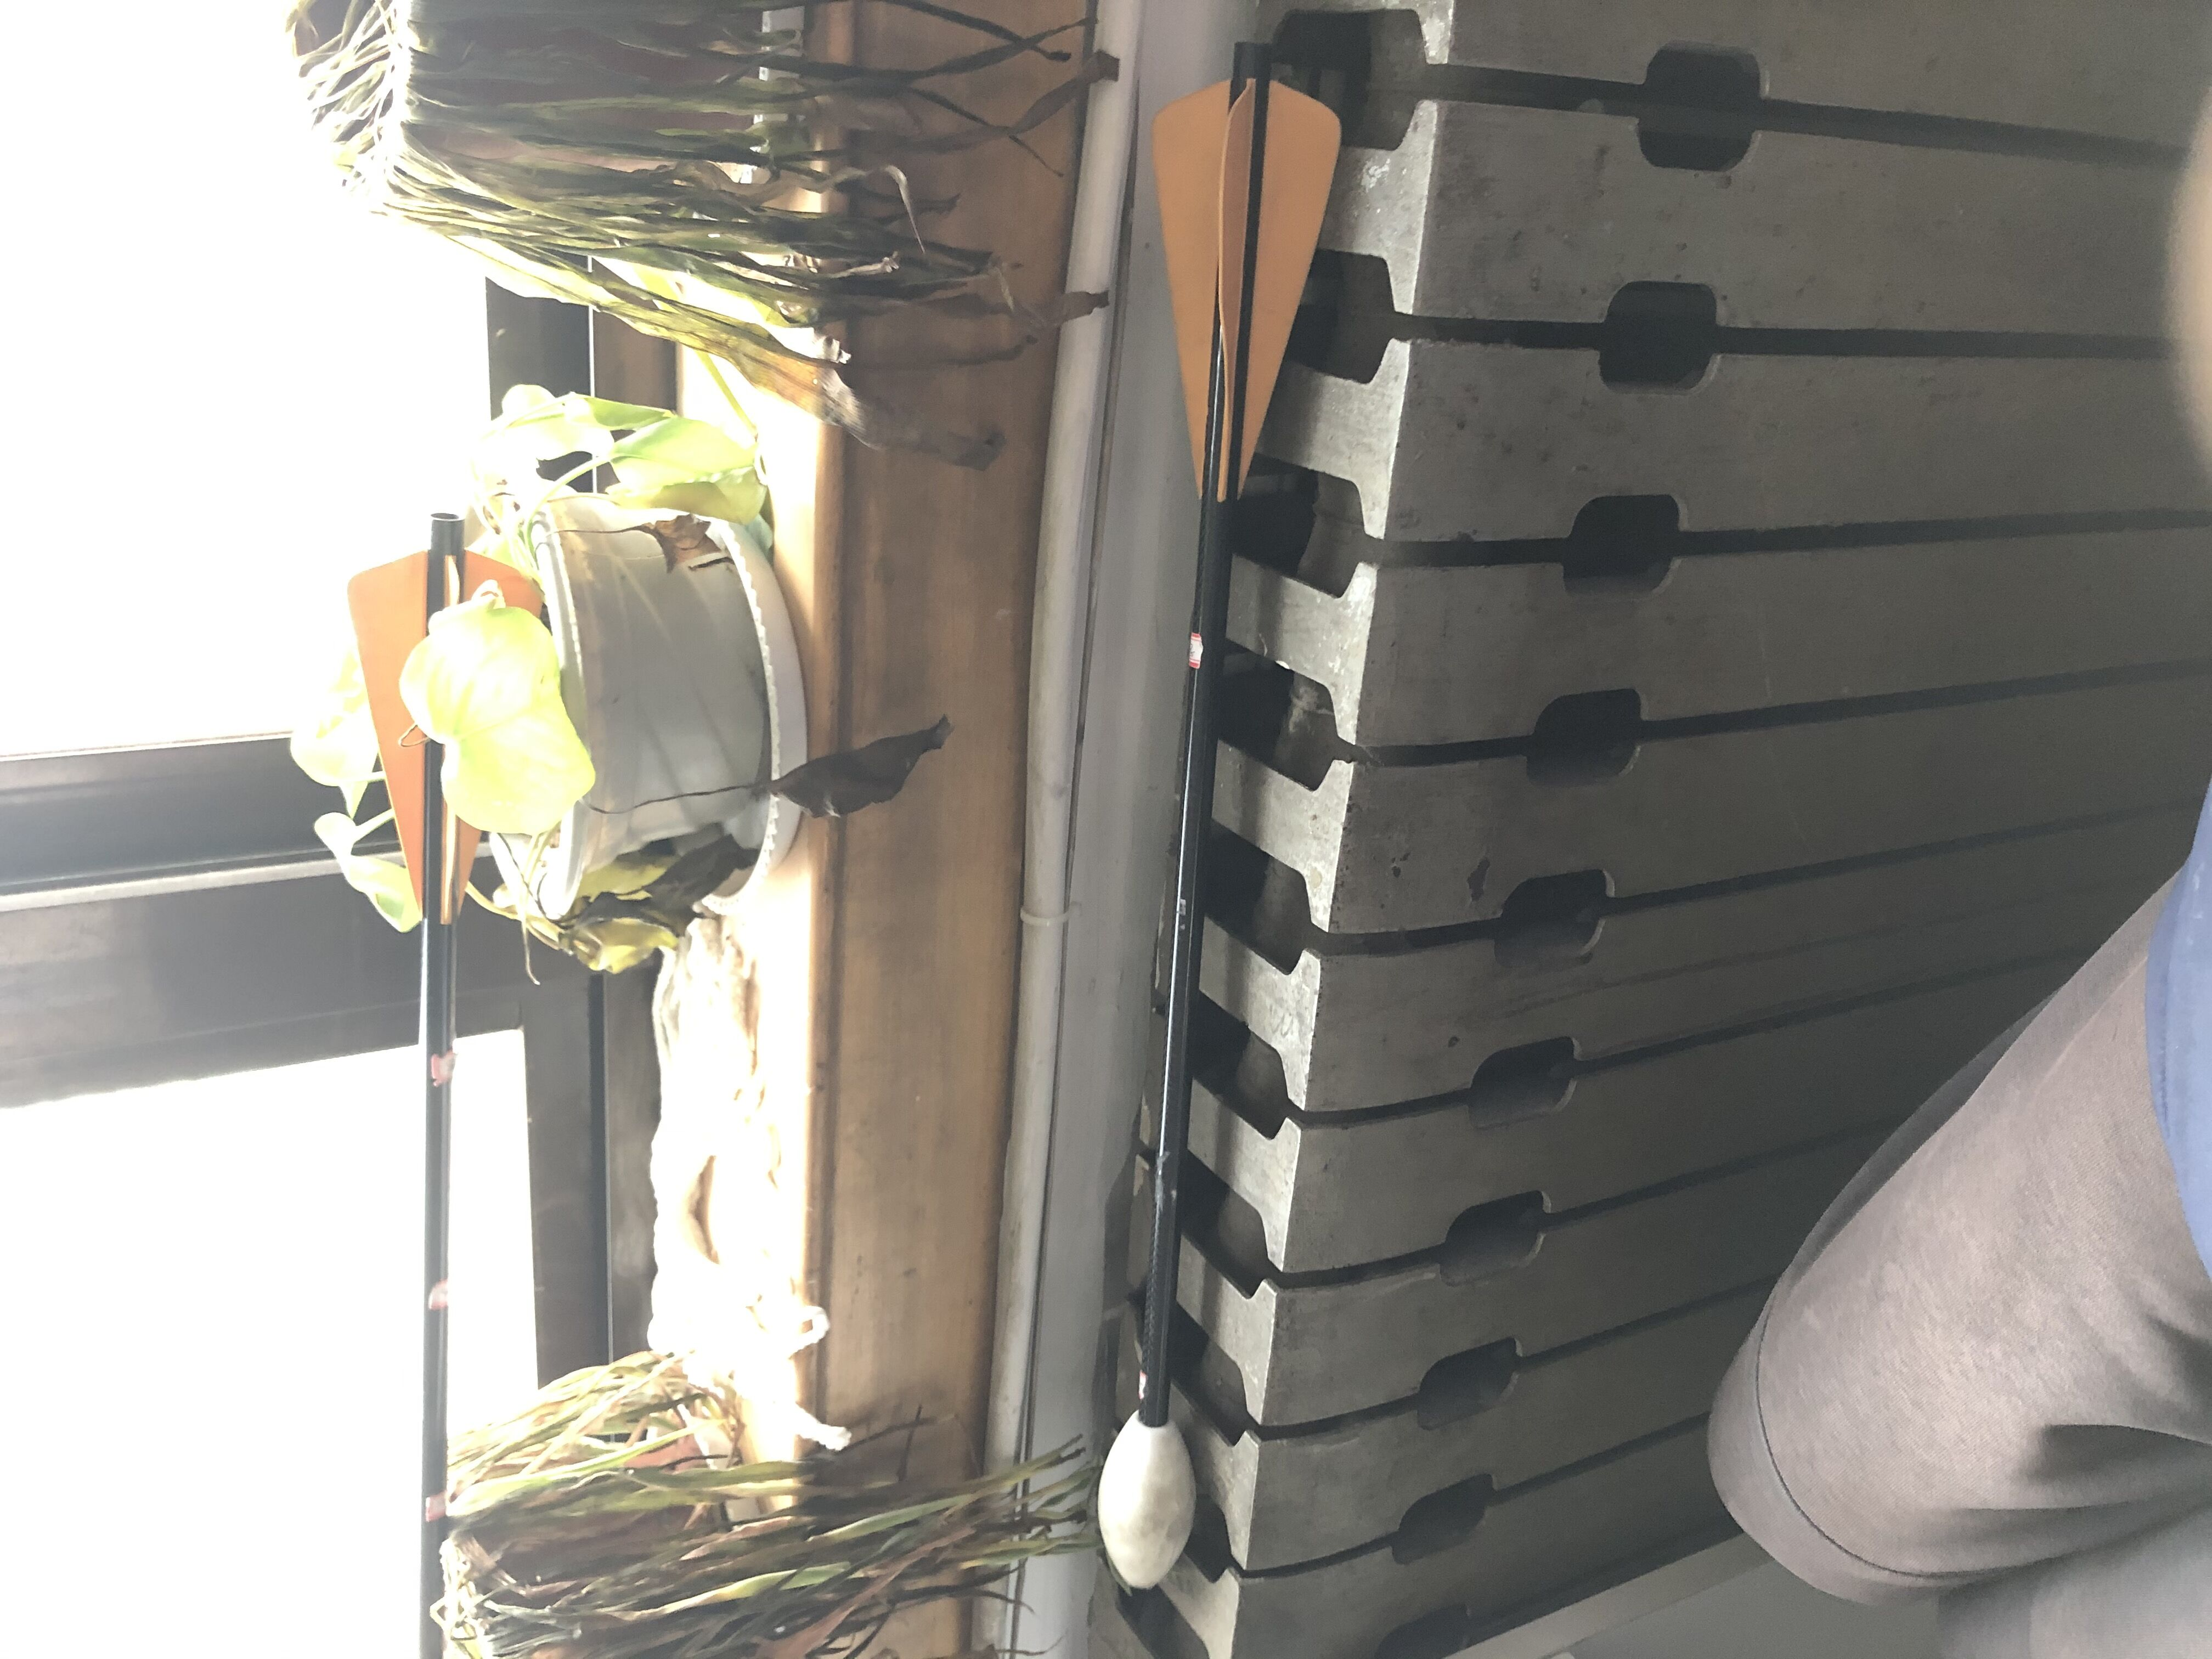arrow: (1096, 38, 1346, 1584), (348, 516, 545, 1659)
arrowFront: (1096, 1412, 1197, 1589)
